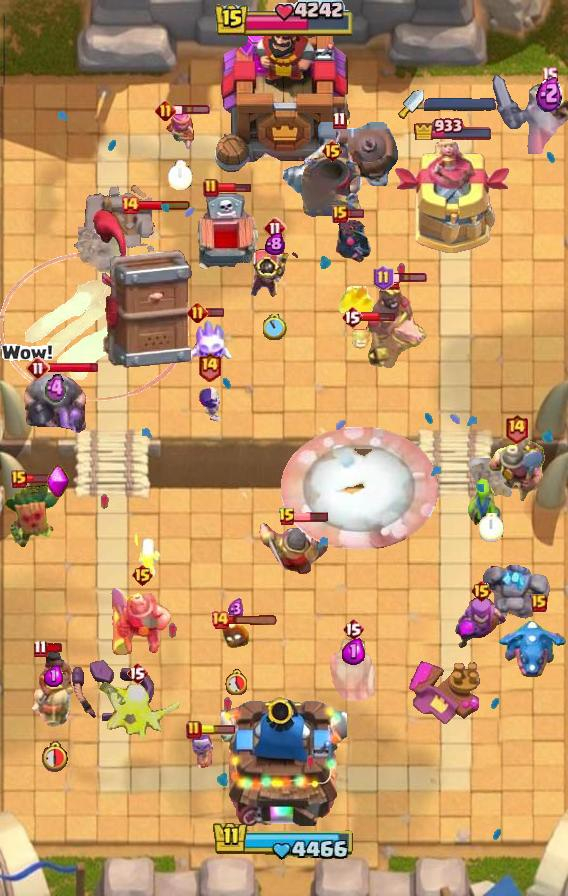archer: (164, 107, 196, 151)
bar: (48, 361, 99, 374), (138, 199, 191, 211), (227, 615, 279, 626), (391, 272, 428, 284), (174, 104, 211, 116), (293, 511, 329, 523), (361, 311, 396, 323), (217, 182, 252, 194), (25, 473, 61, 484), (200, 725, 236, 735), (45, 642, 64, 654), (206, 307, 225, 318), (346, 208, 365, 219)
bar-level: (504, 413, 529, 444), (197, 351, 222, 382), (26, 356, 50, 380), (263, 216, 287, 240), (470, 579, 493, 603), (131, 563, 154, 587), (321, 139, 344, 163), (373, 265, 394, 291), (126, 661, 148, 685), (342, 617, 364, 641), (341, 305, 363, 329), (187, 302, 208, 323), (155, 100, 176, 121), (210, 610, 230, 630), (120, 195, 140, 215), (278, 507, 296, 527), (541, 66, 558, 85), (186, 720, 202, 740), (203, 178, 219, 198), (531, 594, 547, 612), (11, 470, 27, 488), (332, 205, 348, 223), (33, 639, 48, 658), (332, 111, 347, 130)
clock: (39, 740, 68, 772), (168, 160, 193, 190), (479, 513, 504, 542), (263, 314, 287, 340), (225, 669, 247, 695)
dagger-duchess-tower: (394, 142, 512, 256)
dagger-duchess-tower-bar: (424, 97, 496, 111)
dart-goblin: (3, 484, 61, 552)
dirt: (78, 227, 138, 285), (470, 458, 512, 504)
electro-dragon: (496, 617, 568, 679)
elixir: (536, 75, 562, 112), (45, 373, 66, 405), (342, 638, 365, 665), (265, 232, 285, 255), (44, 665, 63, 687), (228, 598, 244, 621)
evolution-symbol: (46, 465, 70, 499)
fire-spirit: (221, 621, 251, 649)
goblin: (463, 477, 503, 529)
golemite: (482, 560, 554, 628)
ice-spirit-evolution: (191, 316, 235, 370)
king-tower: (211, 7, 357, 181), (221, 690, 347, 826)
king-tower-bar: (212, 820, 356, 862), (213, 0, 355, 40)
knight: (258, 520, 336, 574)
lava-pup: (351, 319, 383, 351)
little-prince: (247, 244, 303, 300)
miner: (109, 585, 175, 655), (485, 436, 547, 506)
mini-pekka: (333, 216, 373, 268)
mortar: (301, 153, 363, 221)
mother-witch: (453, 595, 509, 653)
ram-rider: (30, 647, 76, 727)
royal-ghost: (490, 74, 568, 154), (326, 636, 380, 702)
skeleton: (132, 531, 162, 577)
skeleton-evolution: (188, 730, 220, 772), (196, 386, 222, 422)
tower-bar: (413, 115, 494, 140)
